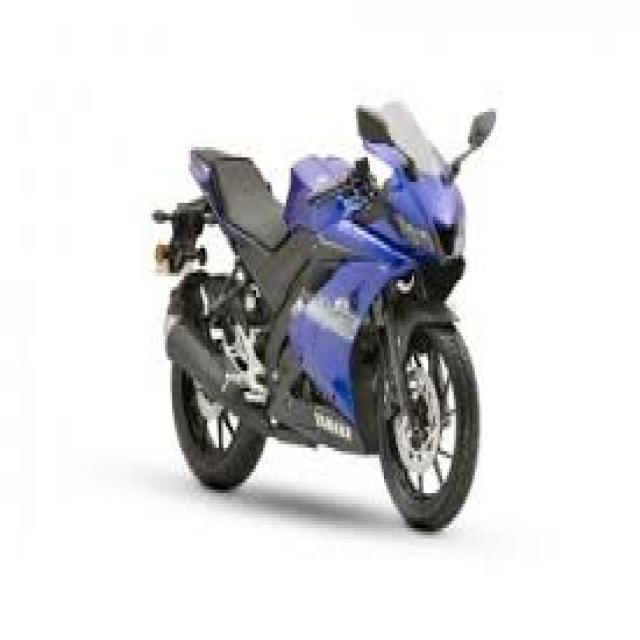MOTORCYCLE: (161, 99, 490, 538)
